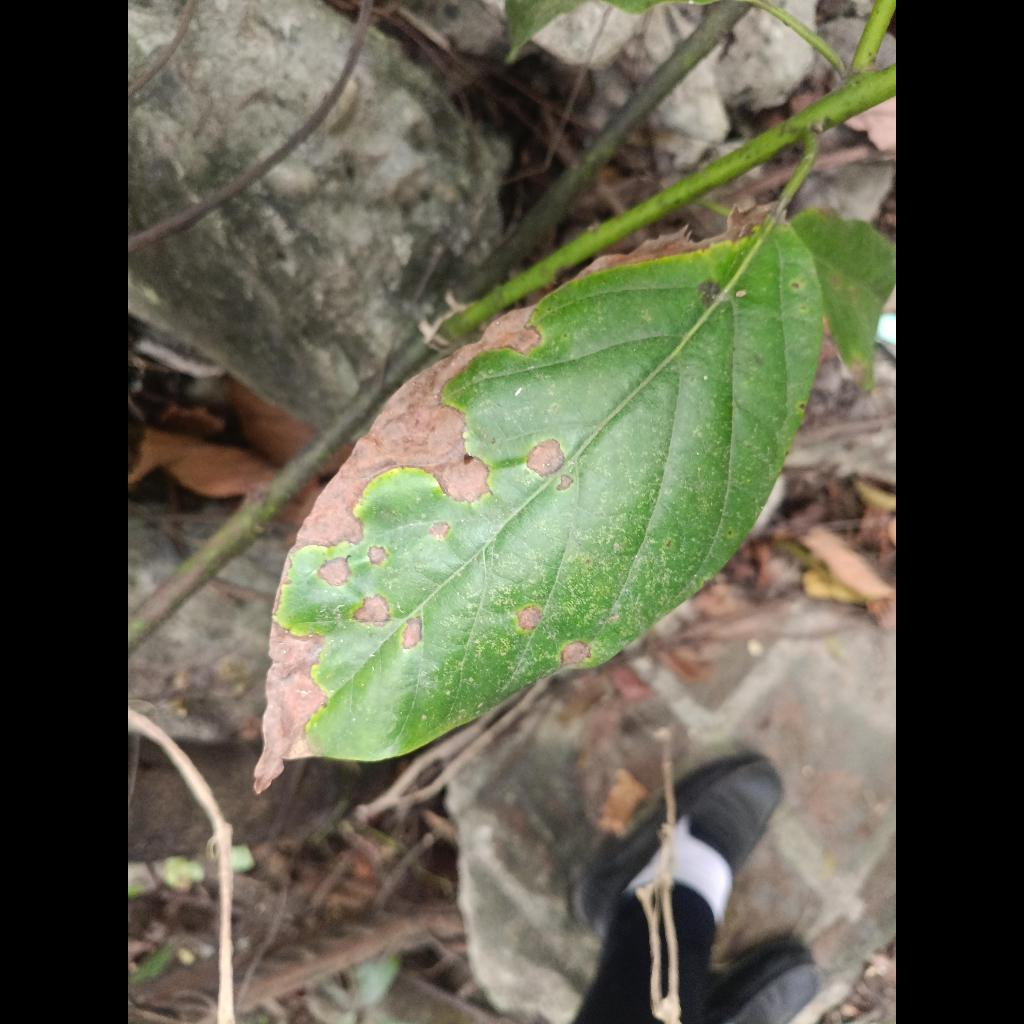antracnosis_hoja: (258, 223, 822, 787)
